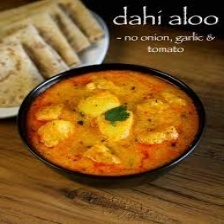roti: (0, 0, 106, 110)
